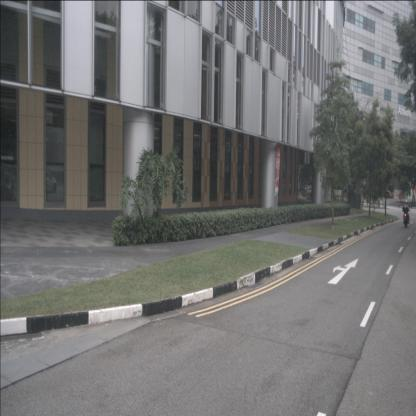barrier: (393, 190, 399, 200), (398, 190, 402, 199)
